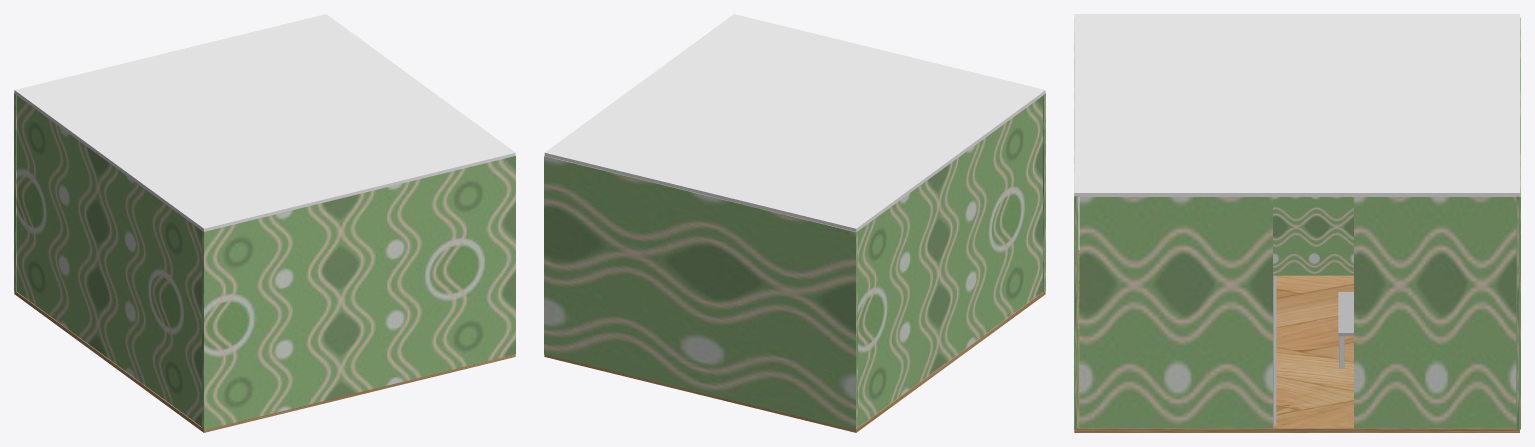
File: GreenRoom_for_ISB2.fbx
3 renders of one model, left to right at view 1: azimuth 30°, elevation 25°; view 2: azimuth 150°, elevation 25°; view 3: azimuth 270°, elevation 25°, orthographic. The views are drawn at different scales.
Parts seen in each view (by area): view 1: Cube.014, ceiling, floor; view 2: Cube.014, ceiling, floor; view 3: Cube.014, ceiling, floor, Cube, door_main.
Boxes of the visible parts, bbox=[...] form: Cube.014: bbox=[14, 93, 515, 430]; ceiling: bbox=[14, 14, 515, 231]; floor: bbox=[14, 291, 515, 432]; Cube.014: bbox=[544, 93, 1045, 430]; ceiling: bbox=[544, 14, 1045, 231]; floor: bbox=[544, 292, 1045, 432]; Cube.014: bbox=[1074, 17, 1520, 429]; ceiling: bbox=[1074, 14, 1519, 196]; floor: bbox=[1074, 250, 1519, 432]; Cube: bbox=[1338, 292, 1353, 336]; door_main: bbox=[1273, 275, 1276, 426].
Bounding box in the file's own units: 446 × 279 × 471.
